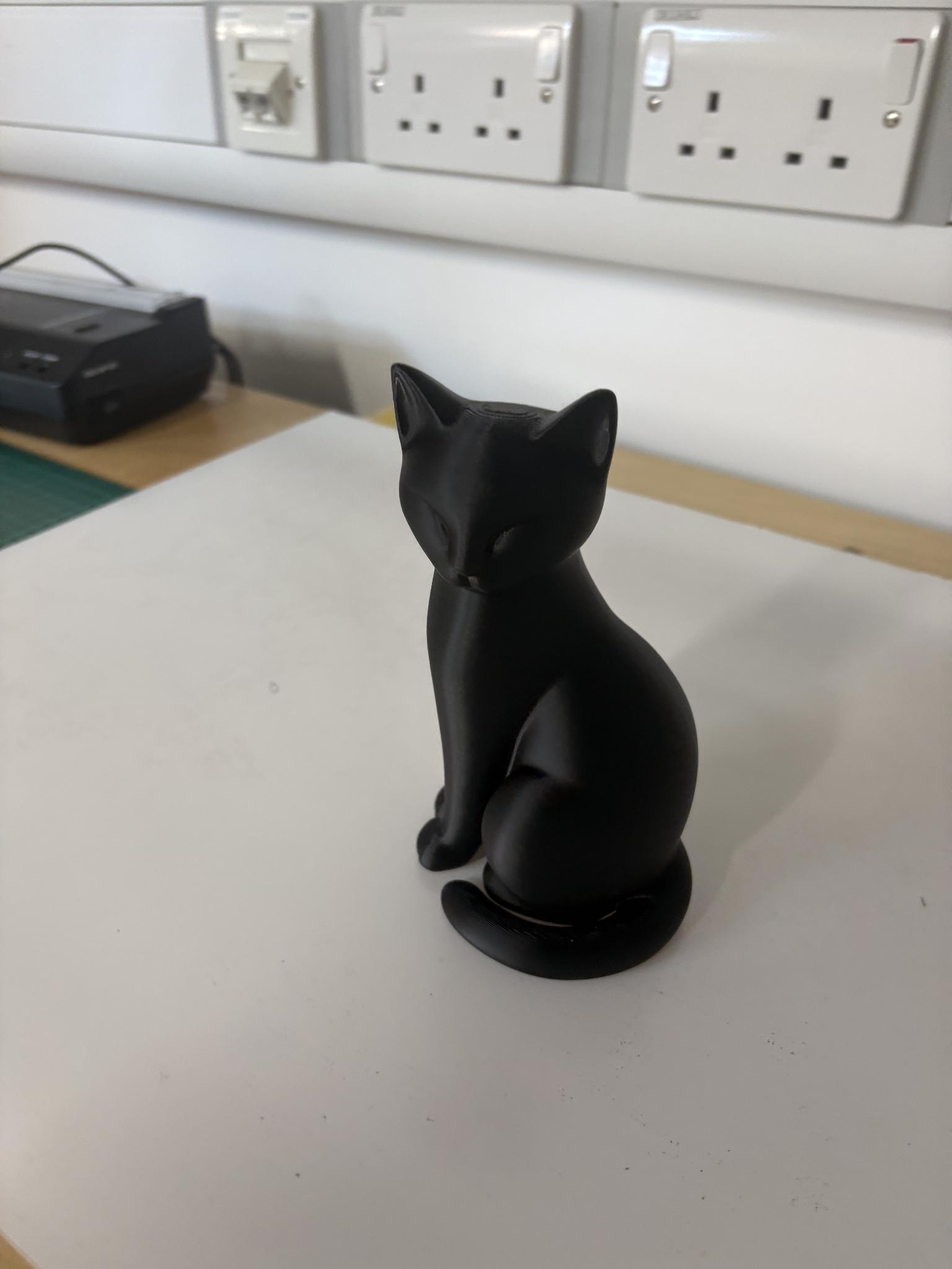cat: (393, 366, 697, 978)
